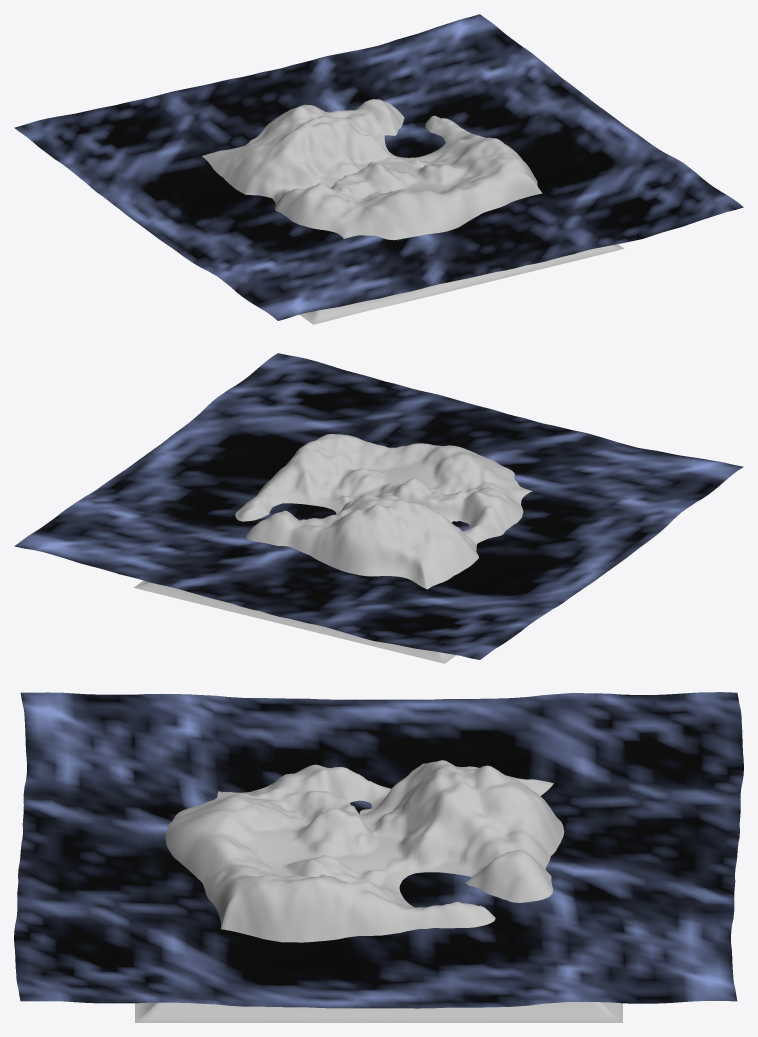
File: environmentLake.fbx
3 renders of one model, top to bottom at view 1: azimuth 30°, elevation 25°; view 2: azimuth 150°, elevation 25°; view 3: azimuth 270°, elevation 25°, orthographic. The views are drawn at different scales.
Visible parts, largest first — view 1: Landscape_plane, Landscape; view 2: Landscape_plane, Landscape; view 3: Landscape_plane, Landscape.
Part boxes in pixels (x1,y1,x2,y2): Landscape_plane: (14,14,743,320); Landscape: (202,99,624,324); Landscape_plane: (14,353,743,659); Landscape: (133,434,532,663); Landscape_plane: (14,692,743,1008); Landscape: (135,760,622,1022).
Bounding box in the file's own units: 300 × 57.92 × 299.
